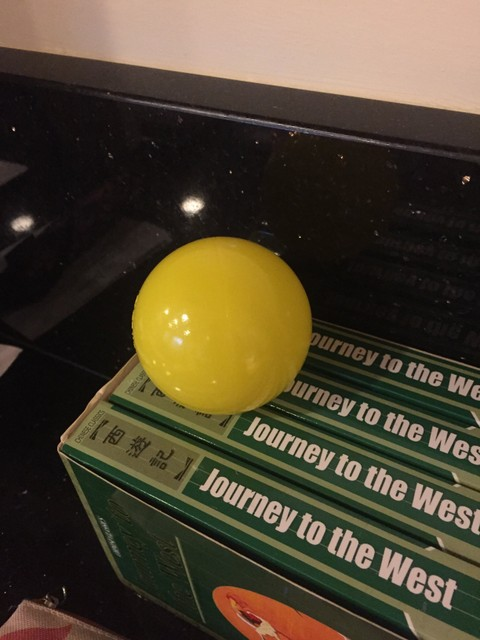ball: (124, 232, 310, 411)
